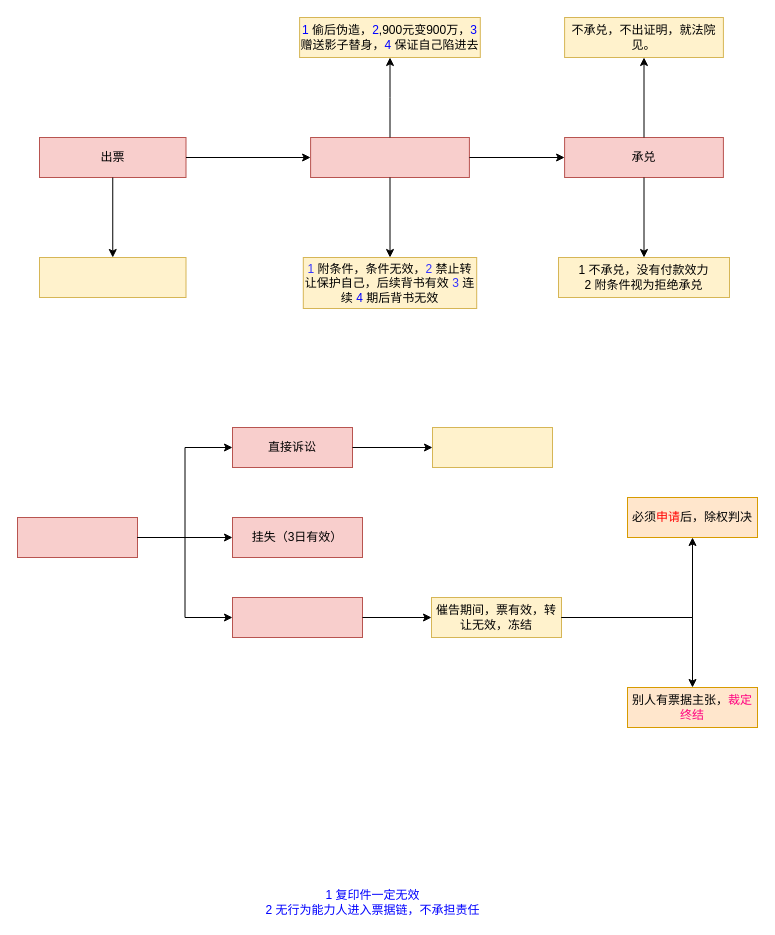
This 775x935 diagram has some shape labels left out. The shapes that lost their labels are listed below. From the top down, each one's box as (x1, y1, x2, y2) in pixels, then its label:
(310, 136, 469, 178): 背书
(38, 256, 186, 298): 附条件票无效 不的转让，票有效，后手转让无效
(432, 426, 552, 468): 担保被拒，直接告出票人和银行
(16, 516, 138, 558): 丢失
(232, 596, 362, 638): 挂失内或直接公示催告
